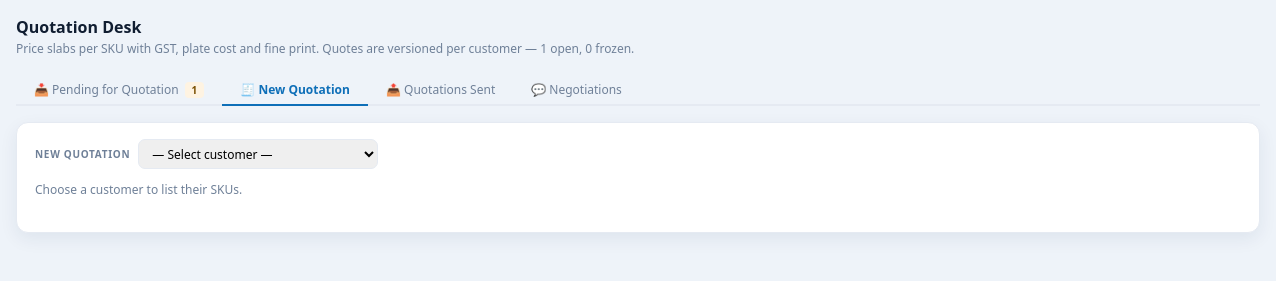
Test: Quotation Desk — sent list › lists issued quotations with their version
Expected: the text "Quotation Desk" is shown, x1=16 y1=16 x2=141 y2=38
Click the text with class "step-tab" showing "📤 Quotations Sent": (441, 90) x1=386 y1=81 x2=495 y2=98
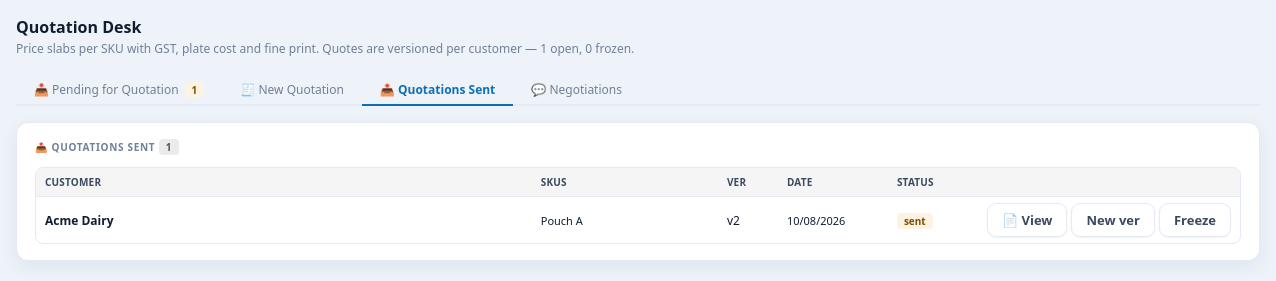
Expected: the text "Acme Dairy" is shown, x1=36 y1=196 x2=532 y2=243
Expected: the text "v2" is shown, x1=718 y1=196 x2=778 y2=243
Expected: the text "Pouch A" is shown, x1=532 y1=196 x2=718 y2=243
